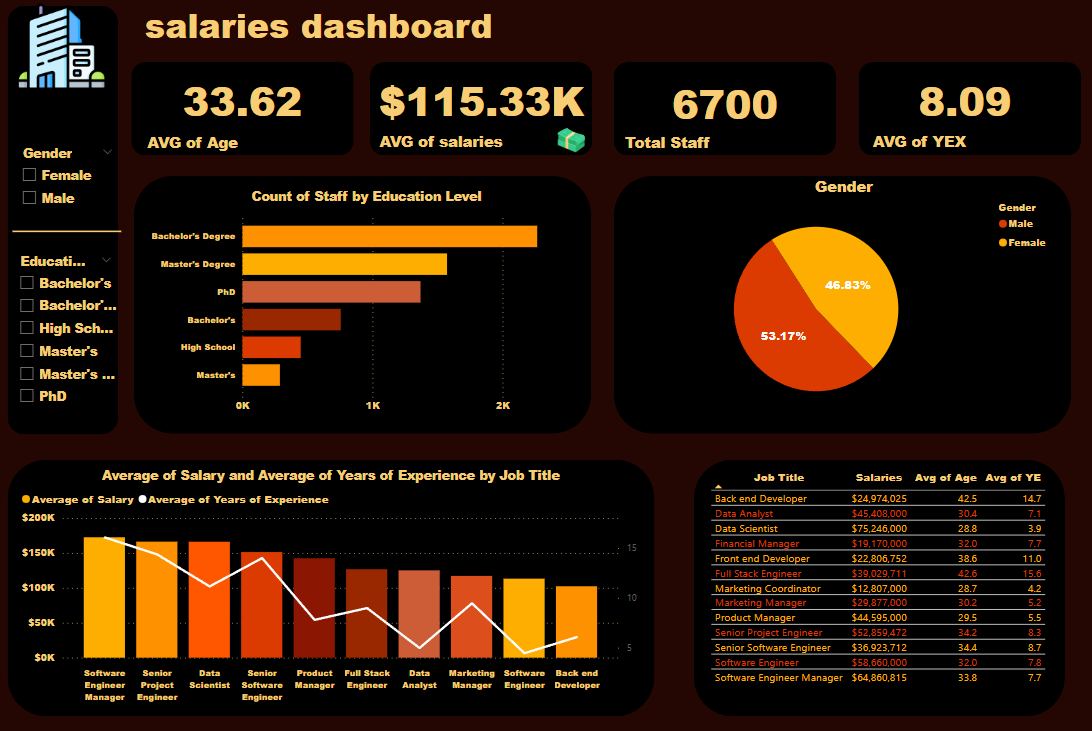

The dashboard page shown, as its layout file describes it:
{"tool":"powerbi","page":{"name":"Page 1","canvas":[1395,940],"ordinal":0},"visuals":[{"type":"shape","box":[1096.1,82.9,283.9,119.5],"z":0},{"type":"shape","box":[783.7,82.9,283.9,119.5],"z":1000},{"type":"shape","box":[472.7,82.9,283.9,119.5],"z":2000},{"type":"shape","box":[9.5,10.9,141.3,547.4],"z":3000},{"type":"slicer","fields":{"Values":["jobs.Education Level"]},"box":[12.8,320.8,142,221.8],"z":4000},{"type":"shape","box":[336.7,420,140,30],"z":5000},{"type":"shape","box":[167.1,82.9,283.9,119.5],"z":6000},{"type":"card","fields":{"Values":["Avg(jobs.Age)"]},"box":[177.8,78.9,264.4,104.4],"z":7000},{"type":"shape","box":[16,284.1,138.8,30.3],"z":8000},{"type":"textbox","box":[154.4,167.8,182.2,37.8],"z":9000},{"type":"textbox","box":[423.3,166.7,280,51.1],"z":10000},{"type":"textbox","box":[783.7,167.1,105.9,39.4],"z":11000},{"type":"textbox","box":[780,167.8,142.2,37.8],"z":12000},{"type":"textbox","box":[1095.6,166.7,157.8,38.9],"z":13000},{"type":"shape","box":[171.5,227.5,584,329.4],"z":14000},{"type":"shape","box":[784.4,227.5,584,329.4],"z":15000},{"type":"shape","box":[10,590,826,328],"z":16000},{"type":"shape","box":[886,590,474,328],"z":17000},{"type":"slicer","fields":{"Values":["jobs.Gender"]},"box":[16,183.5,140.4,127.7],"z":22000},{"type":"textbox","box":[135.7,0,542.6,78.2],"z":24000},{"type":"card","fields":{"Values":["Avg(jobs.Salary)"]},"box":[450,77.8,330,105.6],"z":29000},{"type":"card","fields":{"Values":["CountNonNull(jobs.keys)"]},"box":[787.8,81.1,274.4,105.6],"z":30000},{"type":"card","fields":{"Values":["Avg(jobs.Years of Experience)"]},"box":[1095.6,78.9,274.4,105.6],"z":31000},{"type":"lineStackedColumnComboChart","fields":{"Category":["jobs.Job Title"],"Y":["Avg(jobs.Salary)"],"Y2":["Avg(jobs.Years of Experience)"]},"box":[22.2,598.9,800,310],"z":32000},{"type":"pieChart","title":"Gender","fields":{"Category":["jobs.Gender"],"Y":["Sum(jobs.keys)"]},"box":[804.4,227.8,545.6,314.4],"z":33000},{"type":"clusteredBarChart","title":"Count of Staff by Education Level","fields":{"Category":["jobs.Education Level"],"Y":["CountNonNull(jobs.keys)"]},"box":[186.7,242.2,562.2,300],"z":34000},{"type":"tableEx","fields":{"Values":["data.Job Title","data.Salaries","data.Avg of Age","data.Avg of YE"]},"box":[902.2,598.9,440,298.9],"z":35000},{"type":"image","box":[16,0,126.1,127.7],"z":35001},{"type":"image","box":[702.2,158,54.3,49.5],"z":35002}]}

Visuals, with their boxes in screenshot pixels (x1, y1, x2, y2), scaled from the page's 1395x940 canvas onto the 1092x731 screenshot:
shape: crop(858, 64, 1080, 157)
shape: crop(613, 64, 836, 157)
shape: crop(370, 64, 592, 157)
shape: crop(7, 8, 118, 434)
slicer - jobs.Education Level: crop(10, 249, 121, 422)
shape: crop(264, 327, 373, 350)
shape: crop(131, 64, 353, 157)
card - Avg(jobs.Age): crop(139, 61, 346, 143)
shape: crop(13, 221, 121, 244)
textbox: crop(121, 130, 263, 160)
textbox: crop(331, 130, 551, 169)
textbox: crop(613, 130, 696, 161)
textbox: crop(611, 130, 722, 160)
textbox: crop(858, 130, 981, 160)
shape: crop(134, 177, 591, 433)
shape: crop(614, 177, 1071, 433)
shape: crop(8, 459, 654, 714)
shape: crop(694, 459, 1065, 714)
slicer - jobs.Gender: crop(13, 143, 122, 242)
textbox: crop(106, 0, 531, 61)
card - Avg(jobs.Salary): crop(352, 61, 611, 143)
card - CountNonNull(jobs.keys): crop(617, 63, 831, 145)
card - Avg(jobs.Years of Experience): crop(858, 61, 1072, 143)
lineStackedColumnComboChart - jobs.Job Title x Avg(jobs.Salary): crop(17, 466, 644, 707)
"Gender" pieChart: crop(630, 177, 1057, 422)
"Count of Staff by Education Level" clusteredBarChart: crop(146, 188, 586, 422)
tableEx - data.Job Title x data.Salaries: crop(706, 466, 1051, 698)
image: crop(13, 0, 111, 99)
image: crop(550, 123, 592, 161)
